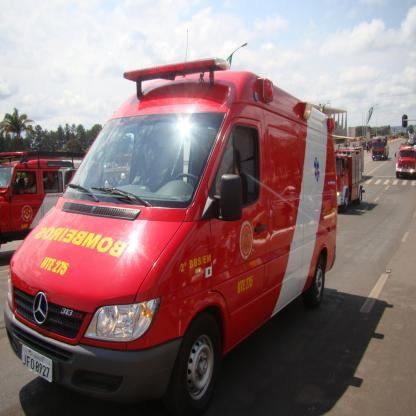ambulance: (4, 29, 338, 410), (0, 150, 82, 245)
